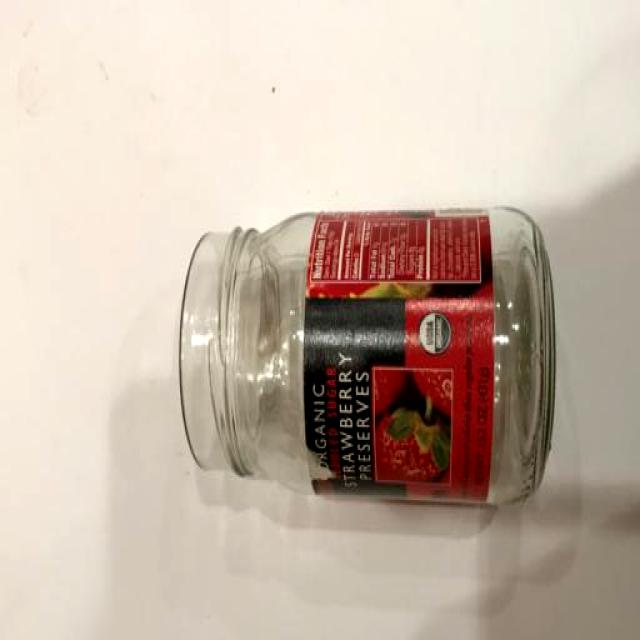Glass: (172, 203, 562, 514)
